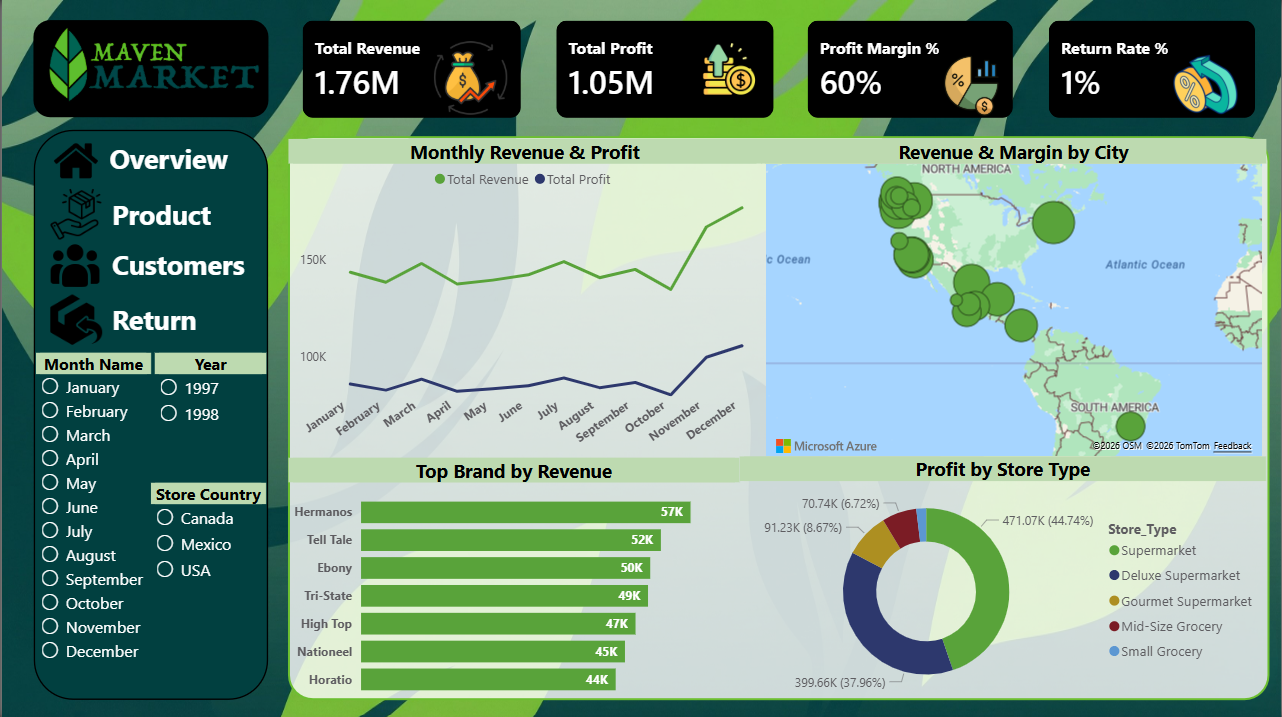

This screenshot's page, from the dashboard's own definition file:
{"tool":"powerbi","page":{"name":"Overview","canvas":[1280,720],"ordinal":0},"visuals":[{"type":"image","box":[41.2,17.5,220,93.8],"z":0},{"type":"image","box":[47.5,187.5,52.5,53.8],"z":0,"group":"g2"},{"type":"image","box":[46.2,241.2,53.8,48.8],"z":0,"group":"g3"},{"type":"image","box":[47.5,291.2,53.8,56.2],"z":0,"group":"g4"},{"type":"listSlicer","fields":{"Values":["Calendar.Month Name"]},"box":[34.1,353.2,115.5,320.9],"z":0,"group":"g9"},{"type":"group","id":"g1","title":"Group 1","box":[48.4,135.3,192.9,52.5],"z":1000},{"type":"image","box":[48.4,138.4,50,43.8],"z":1000,"group":"g1"},{"type":"textbox","box":[105,241.2,148.8,50],"z":1000,"group":"g3"},{"type":"textbox","box":[105,296.2,106.2,51.2],"z":1000,"group":"g4"},{"type":"listSlicer","fields":{"Values":["Calendar.Year"]},"box":[152.2,353.1,112.3,129.5],"z":1000,"group":"g9"},{"type":"textbox","box":[102.5,135.3,138.8,52.5],"z":2000,"group":"g1"},{"type":"actionButton","box":[45,138.8,196.2,43.8],"z":2000},{"type":"textbox","box":[104.7,190.9,133.8,48.8],"z":2003,"group":"g2"},{"type":"group","id":"g2","title":"Group 2","box":[47.5,187.5,191.2,53.8],"z":3000},{"type":"actionButton","box":[48.8,187.5,196.2,53.8],"z":4000},{"type":"group","id":"g3","title":"Group 3","box":[46.2,241.2,207.5,50],"z":5000},{"type":"actionButton","box":[45,241.2,208.8,50],"z":6000},{"type":"group","id":"g4","title":"Group 4","box":[47.5,291.2,163.8,56.2],"z":7000},{"type":"actionButton","box":[46.2,291.2,208.8,56.2],"z":8000},{"type":"group","id":"g5","title":"Group 5","box":[284.3,4.3,252.9,131.4],"z":9000},{"type":"cardVisual","fields":{"Data":["All Measures.Total Revenue"]},"box":[284.3,4.3,252.9,131.4],"z":9000,"group":"g5"},{"type":"cardVisual","fields":{"Data":["All Measures.Profit Margin %","select"]},"box":[788.6,4.3,240,131.4],"z":9000,"group":"g7"},{"type":"group","id":"g6","title":"Group 6","box":[537.1,4.3,251.4,131.4],"z":10000},{"type":"cardVisual","fields":{"Data":["All Measures.Total Profit"]},"box":[537.1,4.3,251.4,131.4],"z":10000,"group":"g6"},{"type":"cardVisual","fields":{"Data":["All Measures.Return Rate %"]},"box":[1030,4.3,240,131.4],"z":10000,"group":"g8"},{"type":"group","id":"g7","title":"Group 7","box":[788.6,4.3,240,131.4],"z":11000},{"type":"group","id":"g8","title":"Group 8","box":[1030,4.3,240,131.4],"z":12000},{"type":"image","box":[415.3,39.6,107.1,78.6],"z":12001,"group":"g5"},{"type":"image","box":[689.4,41.8,75,55.3],"z":12003,"group":"g6"},{"type":"image","box":[932.8,54.5,74.2,64],"z":13000,"group":"g7"},{"type":"lineChart","title":"Monthly Revenue & Profit","fields":{"Category":["Calendar.Month Name"],"Y":["All Measures.Total Revenue","All Measures.Total Profit"]},"box":[285.7,138.3,473.2,319.4],"z":13000},{"type":"image","box":[1155.7,52.5,94.3,64.3],"z":13002,"group":"g8"},{"type":"azureMap","title":"Revenue & Margin by City","fields":{"Category":["Stores.Store_City"],"Size":["All Measures.Total Revenue"]},"box":[758.9,138.3,505.5,318.1],"z":14000},{"type":"barChart","title":"Top Brand by Revenue","fields":{"Category":["Products.Product_Brand"],"Y":["All Measures.Total Revenue"]},"box":[286.7,457.8,451.1,244.4],"z":15000},{"type":"donutChart","title":"Profit by Store Type","fields":{"Category":["Stores.Store_Type"],"Y":["All Measures.Total Profit"]},"box":[737.8,456.7,526.7,245.6],"z":17000},{"type":"listSlicer","title":"Store Country","fields":{"Values":["Stores.Store_Country"]},"box":[149.5,482.7,115.2,125.6],"z":19000,"group":"g9"},{"type":"group","id":"g9","title":"Group 9","box":[34.1,353.1,230.6,321],"z":19001}]}

Visuals, with their boxes in screenshot pixels (x1, y1, x2, y2), scaled from the page's 1280x720 canvas onto the 1282x717 screenshot:
image: (41,17,262,111)
image: (48,187,100,240)
image: (46,240,100,289)
image: (48,290,101,346)
listSlicer - Calendar.Month Name: (34,352,150,671)
"Group 1" group: (48,135,242,187)
image: (48,138,99,181)
textbox: (105,240,254,290)
textbox: (105,295,212,346)
listSlicer - Calendar.Year: (152,352,265,481)
textbox: (103,135,242,187)
actionButton: (45,138,242,182)
textbox: (105,190,239,239)
"Group 2" group: (48,187,239,240)
actionButton: (49,187,245,240)
"Group 3" group: (46,240,254,290)
actionButton: (45,240,254,290)
"Group 4" group: (48,290,212,346)
actionButton: (46,290,255,346)
"Group 5" group: (285,4,538,135)
cardVisual - All Measures.Total Revenue: (285,4,538,135)
cardVisual - All Measures.Profit Margin % x select: (790,4,1030,135)
"Group 6" group: (538,4,790,135)
cardVisual - All Measures.Total Profit: (538,4,790,135)
cardVisual - All Measures.Return Rate %: (1032,4,1272,135)
"Group 7" group: (790,4,1030,135)
"Group 8" group: (1032,4,1272,135)
image: (416,39,523,118)
image: (690,42,766,97)
image: (934,54,1009,118)
"Monthly Revenue & Profit" lineChart: (286,138,760,456)
image: (1158,52,1252,116)
"Revenue & Margin by City" azureMap: (760,138,1266,454)
"Top Brand by Revenue" barChart: (287,456,739,699)
"Profit by Store Type" donutChart: (739,455,1266,699)
"Store Country" listSlicer: (150,481,265,606)
"Group 9" group: (34,352,265,671)
